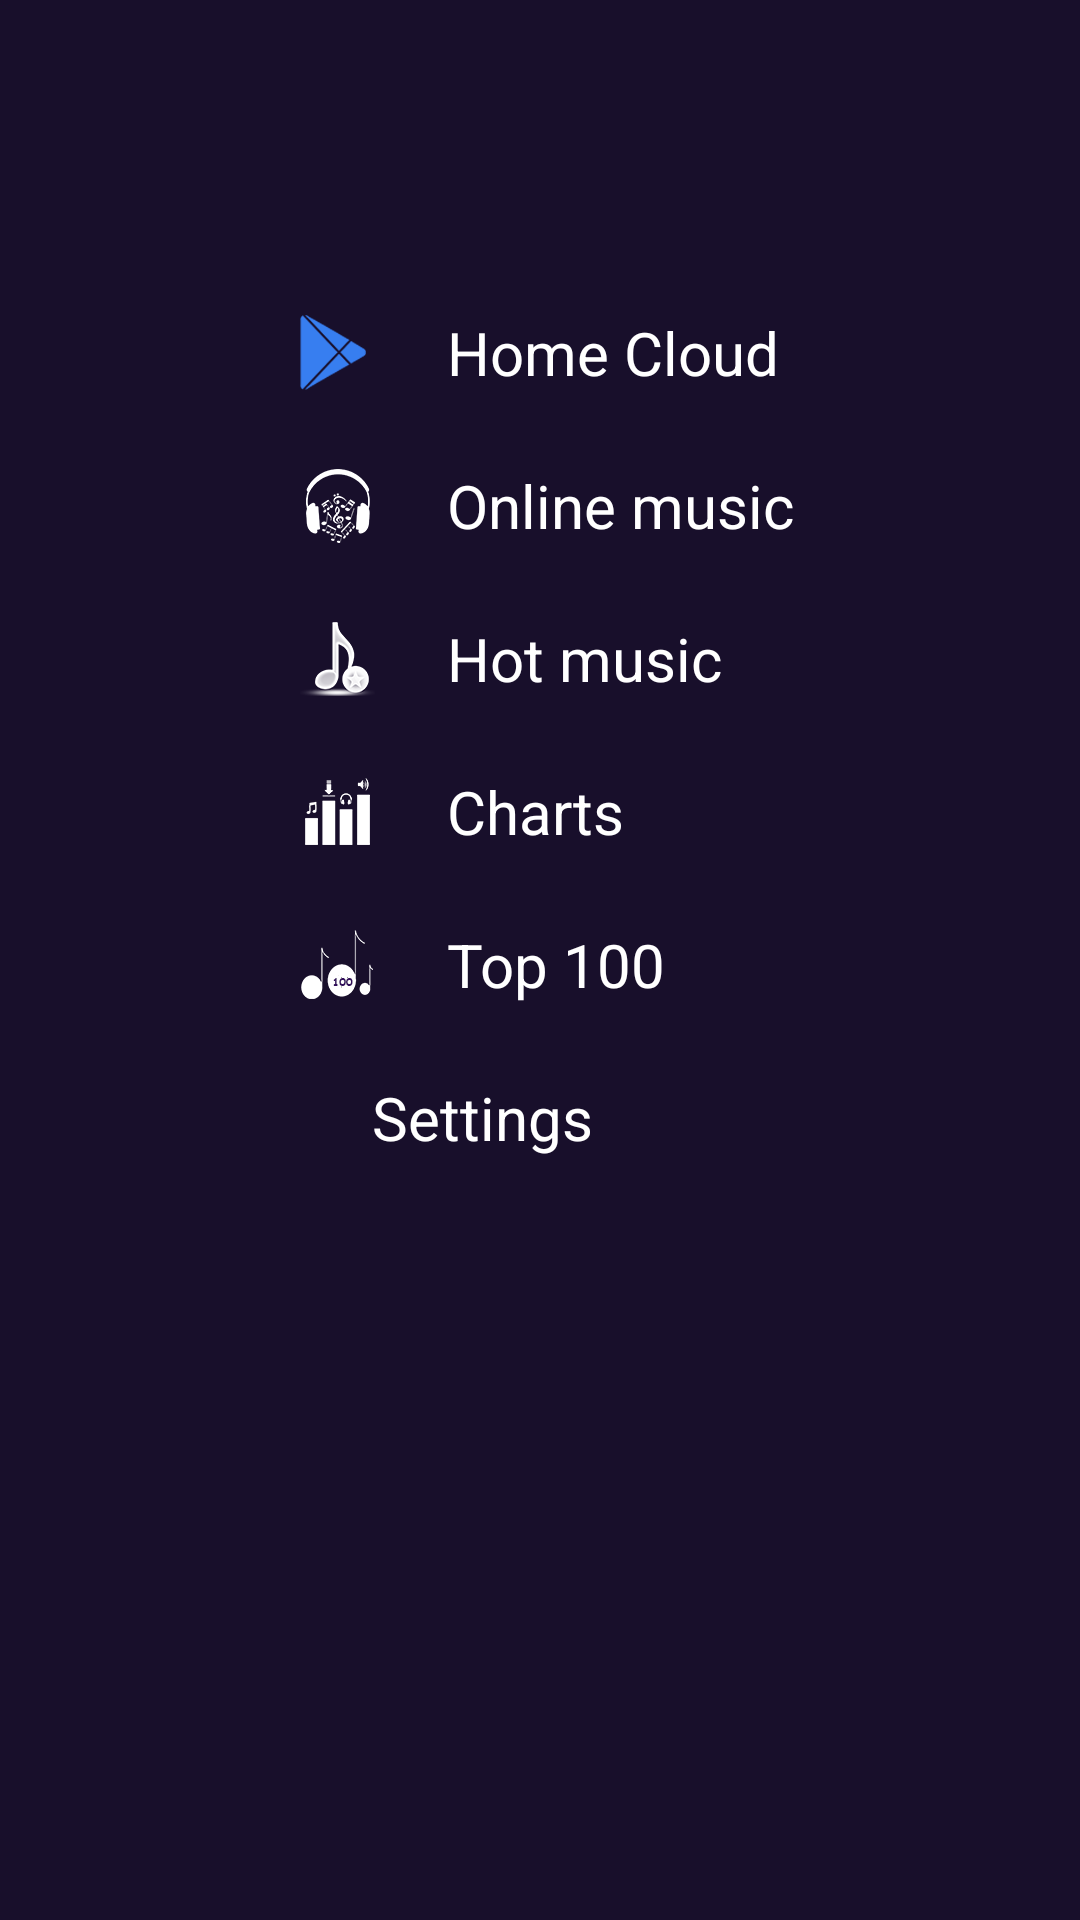

Screen size 1080 × 1920. Icon name, then its box in pixels as {"left": x1, "top": y1, "right": x2, "bottom": y2}:
hot song: {"left": 308, "top": 622, "right": 369, "bottom": 696}
top song: {"left": 301, "top": 930, "right": 373, "bottom": 999}
